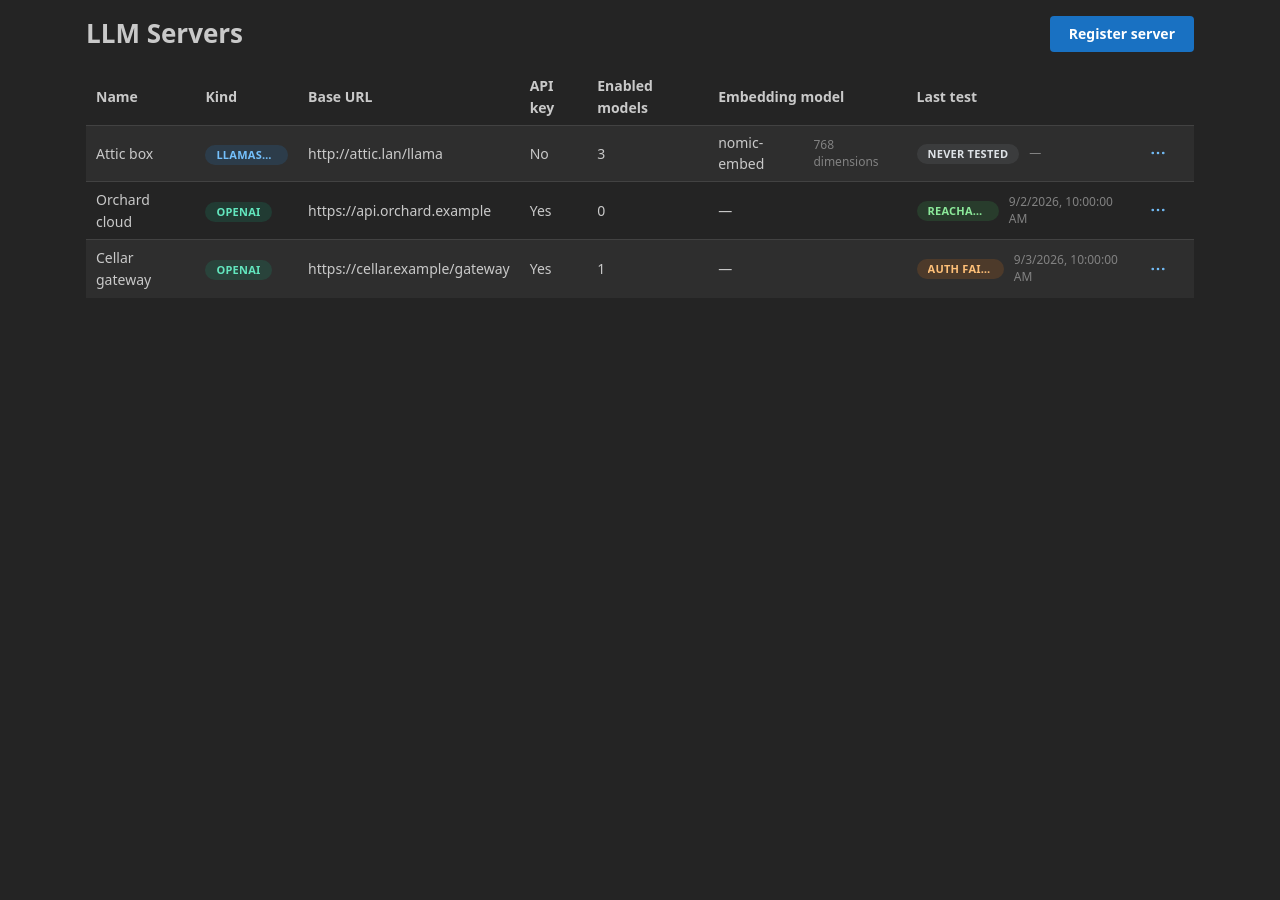
delete is confirmed › cancelling issues no request, closes the confirm and leaves the row — DoD-10
What coordinates should you click on to do the following:
click the submit button
I would click on:
 (1158, 153)
Its box is [1144, 139, 1172, 167].
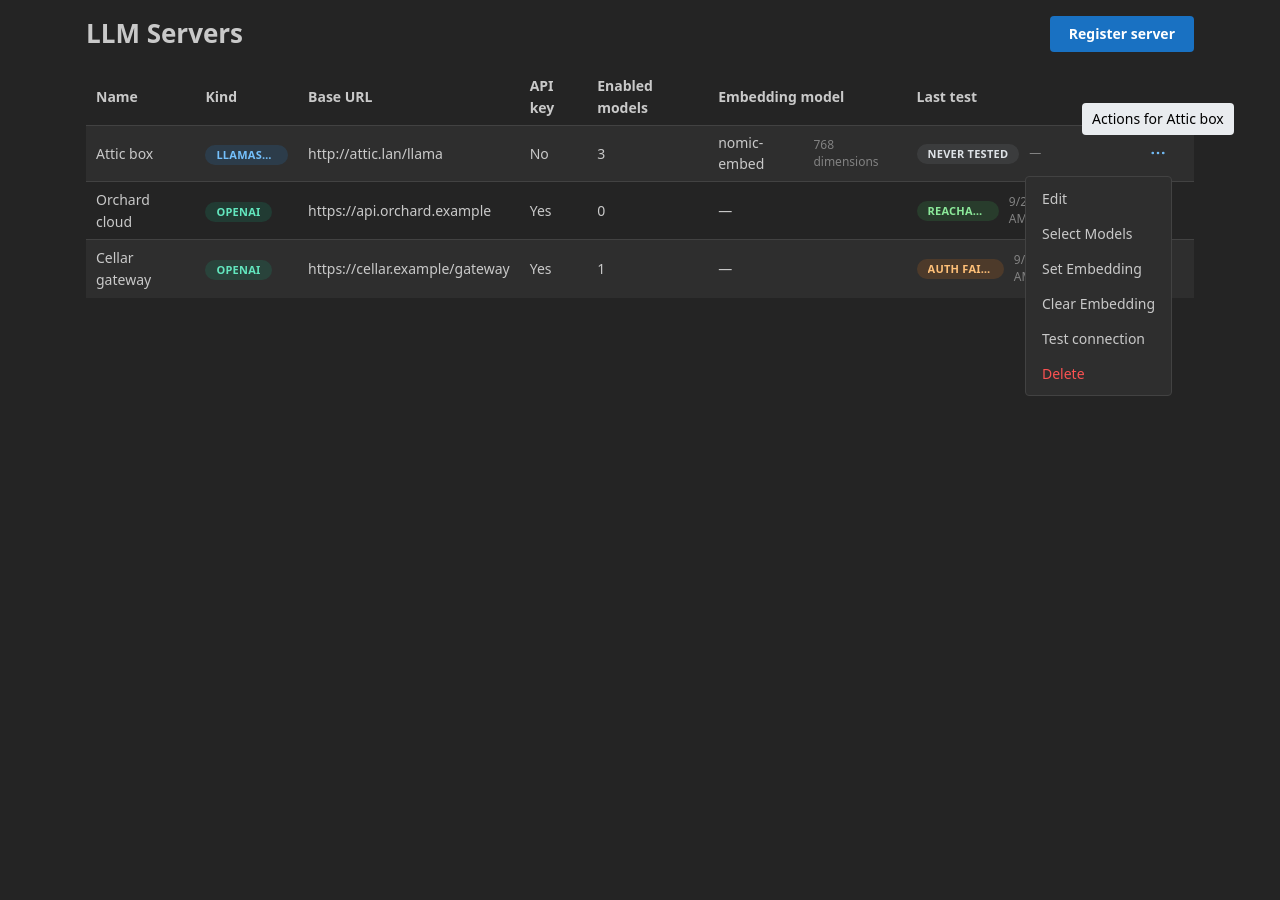
What coordinates should you click on to do the following:
click the menu item "Delete"
I would click on:
 (1098, 374)
Its box is [1030, 356, 1167, 391].
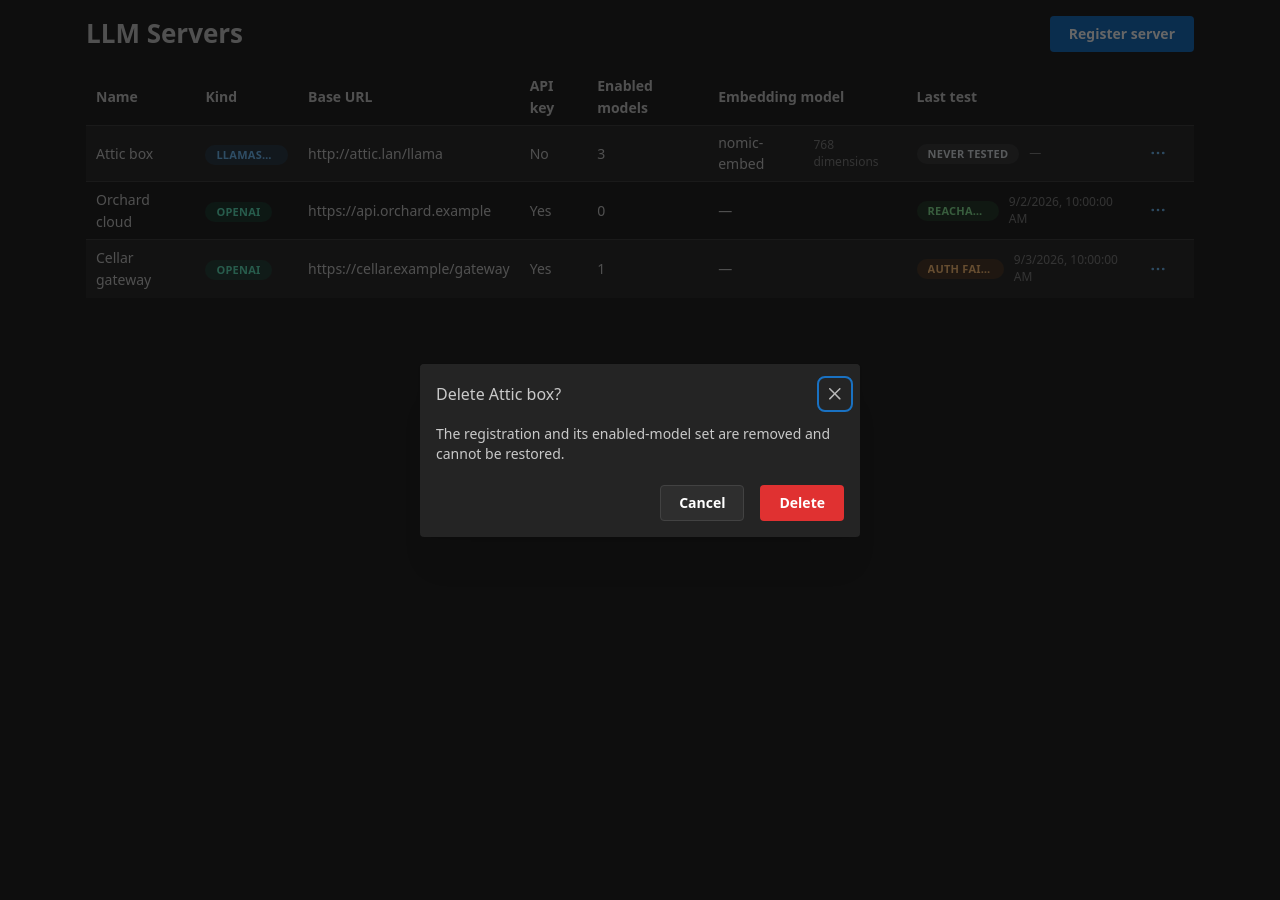
What coordinates should you click on to do the following:
click the button "Cancel"
I would click on:
 (702, 502)
Its box is [660, 484, 744, 520].
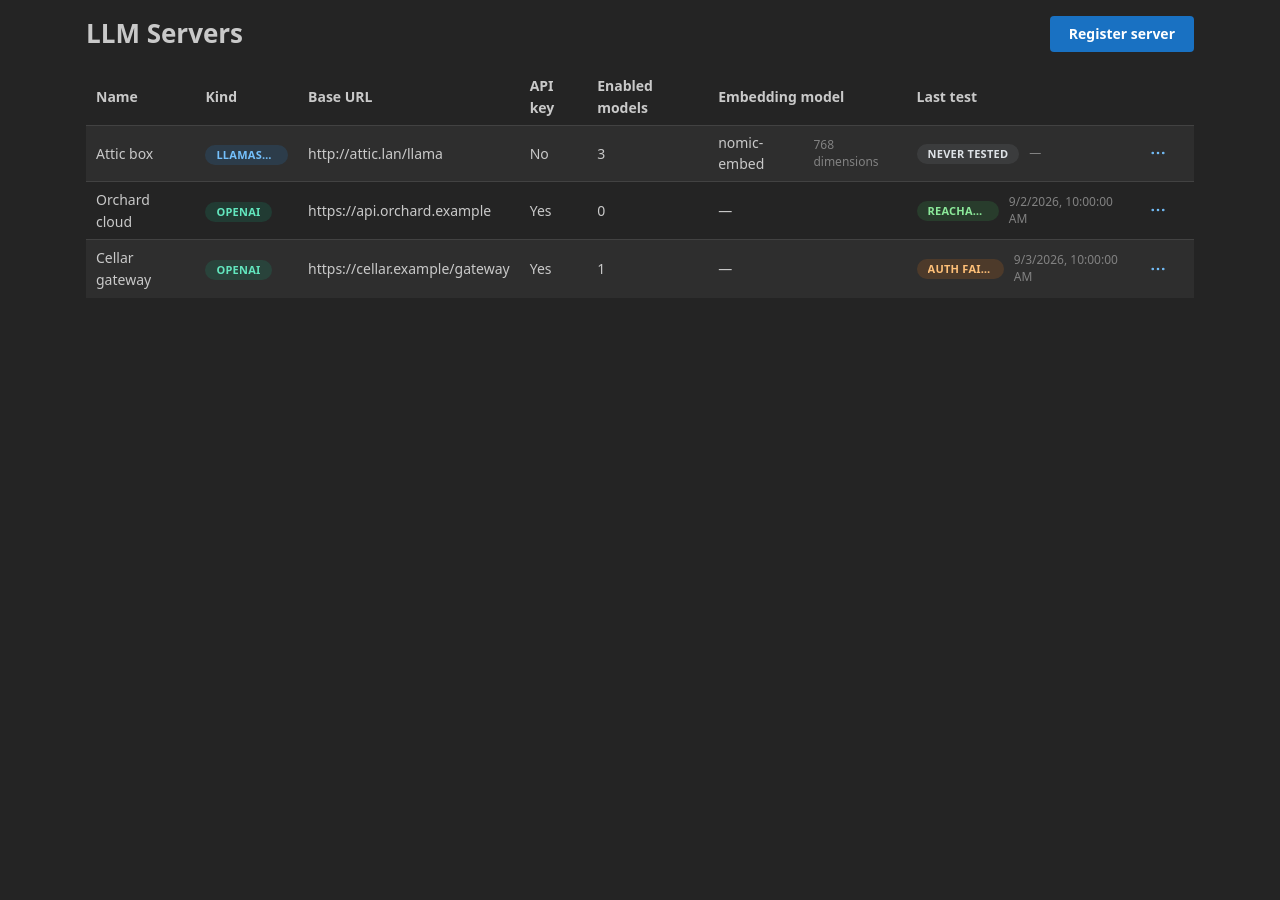
Now the dialog is gone
